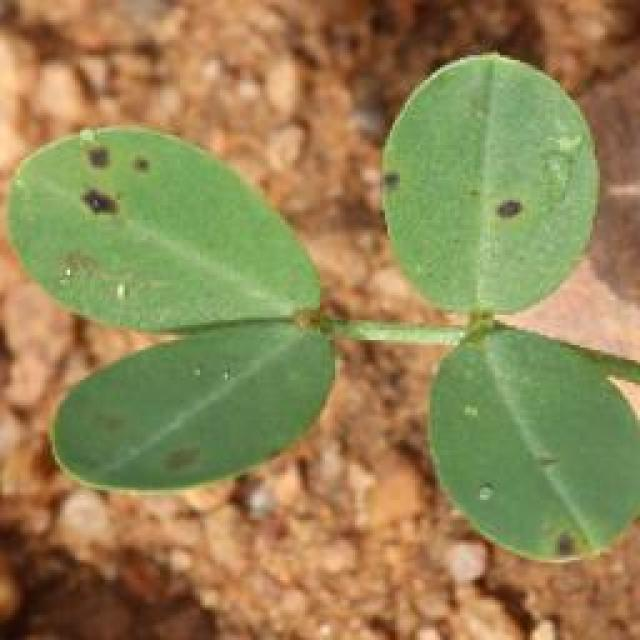Yellowish: (38, 106, 223, 290), (354, 140, 552, 272), (52, 382, 238, 503), (506, 422, 606, 568)
